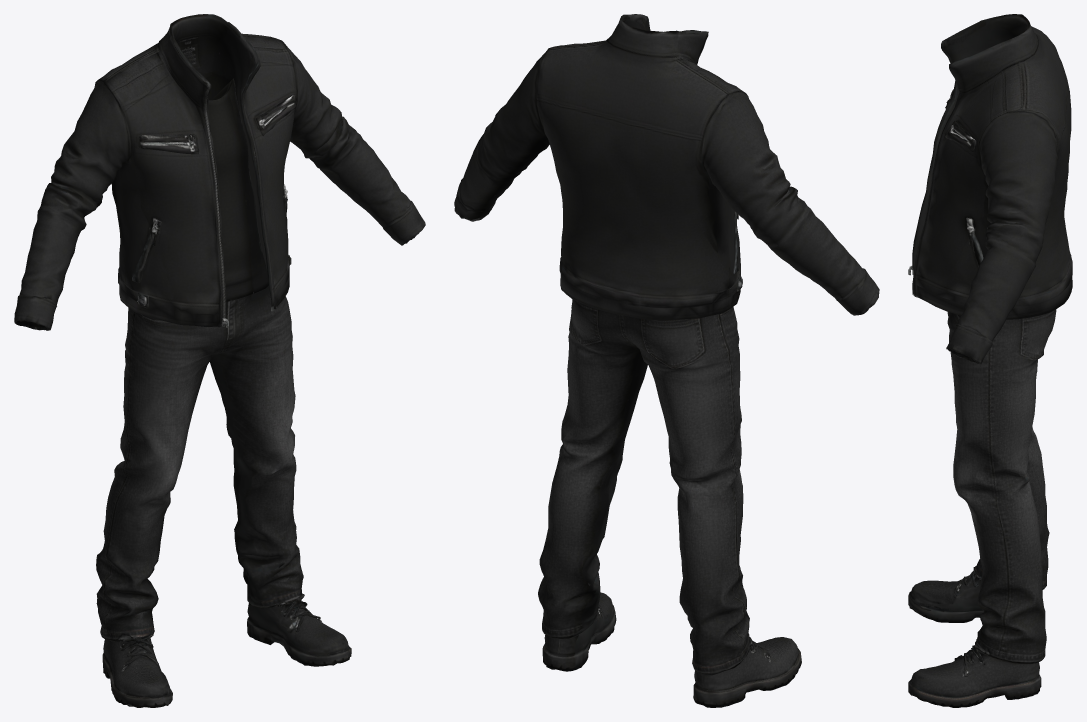
File: nike_garment_02.glb
3 views of the same model, side by side, from view 1: azimuth 30°, elevation 25°; view 2: azimuth 150°, elevation 25°; view 3: azimuth 270°, elevation 25° (orthographic). The views are drawn at different scales.
Visible parts, largest first — view 1: Model_0; view 2: Model_0; view 3: Model_0.
Boxes of the visible parts, x1=… form: Model_0: x1=14, y1=14, x2=425, y2=707; Model_0: x1=454, y1=14, x2=879, y2=707; Model_0: x1=908, y1=14, x2=1072, y2=707.
Size of the model in its own units: 0.6712 by 1 by 0.2368.
1 material, 1 textured.
